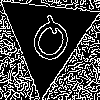Q: (21, 12, 77, 74)
